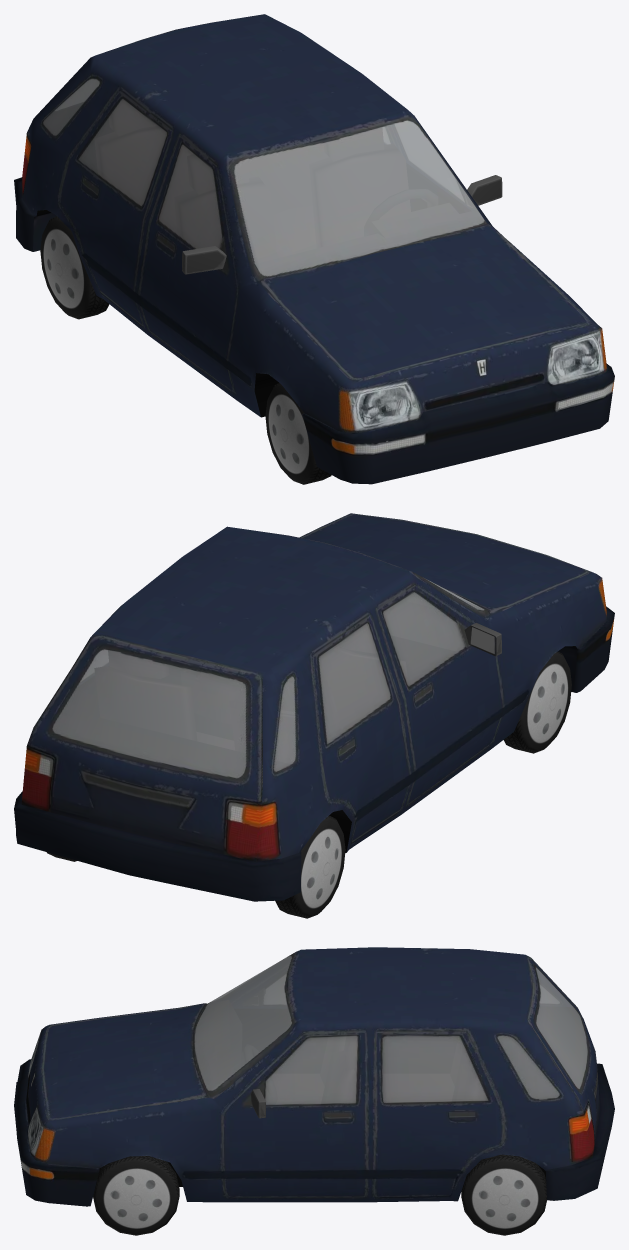
Rendered from car80s.glb.
The picture shows the model from 3 angles, top to bottom: view 1: azimuth 30°, elevation 25°; view 2: azimuth 150°, elevation 25°; view 3: azimuth 270°, elevation 25°; orthographic projection. The views are drawn at different scales.
Visible parts, largest first — view 1: o_car_1_low2, polySurface48, o_wheel_low1, o_wheel_low2, mirror2, mirror1; view 2: o_car_1_low2, polySurface48, o_wheel_low1, o_wheel_low2, mirror2; view 3: o_car_1_low2, polySurface48, o_wheel_low1, o_wheel_low2.
Part boxes in pixels (x1,y1,x2,y2): o_car_1_low2: (14,14,614,484); polySurface48: (43,99,483,275); o_wheel_low1: (40,216,109,319); o_wheel_low2: (265,383,331,484); mirror2: (182,246,226,274); mirror1: (465,175,502,207); o_car_1_low2: (14,513,614,901); polySurface48: (53,593,482,777); o_wheel_low1: (46,815,345,918); o_wheel_low2: (504,651,571,753); mirror2: (464,623,501,656); o_car_1_low2: (14,947,614,1206); polySurface48: (195,1000,586,1105); o_wheel_low1: (461,1154,546,1235); o_wheel_low2: (93,1156,179,1235).
Bounding box in the file's own units: 305 × 229 × 611.
1 material, 1 textured.
